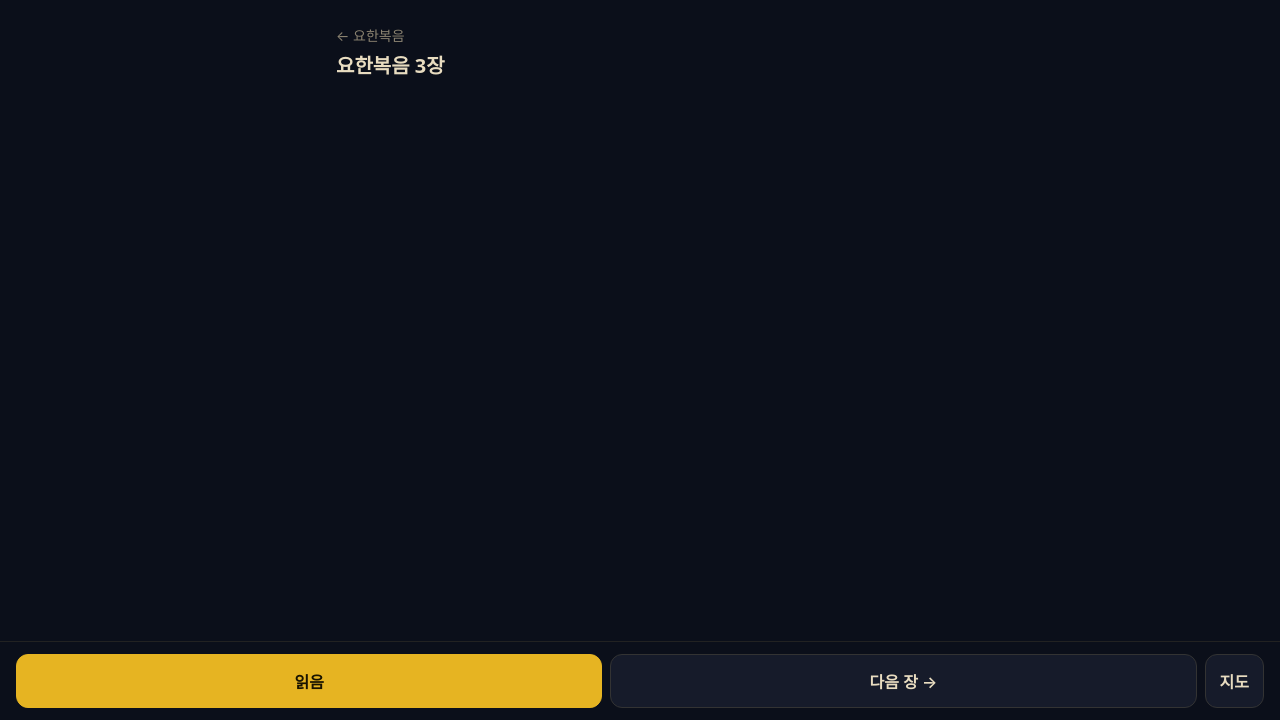
Test: 읽음 직후 묵상 입력칸은 하나뿐이다
Click the button "읽음". click: x=309, y=681
box: [16,654,602,708]
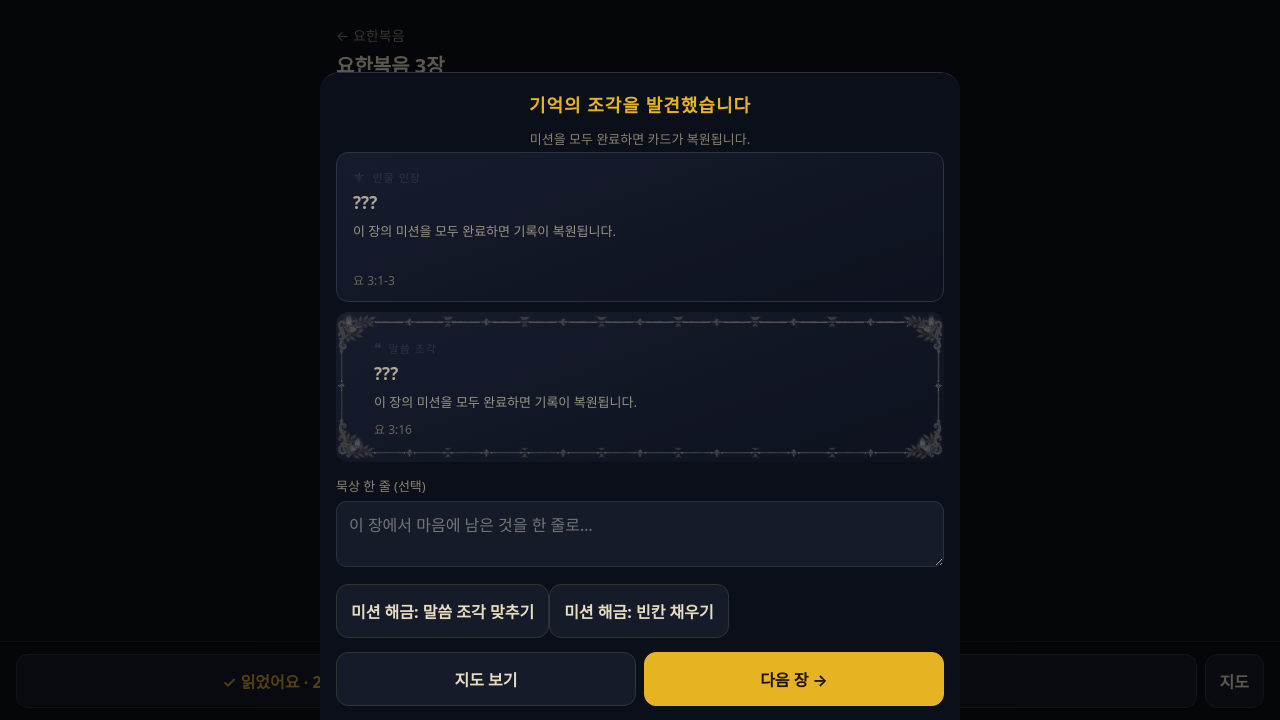
Now the number of text boxes is 1, box [336,501,944,567]
